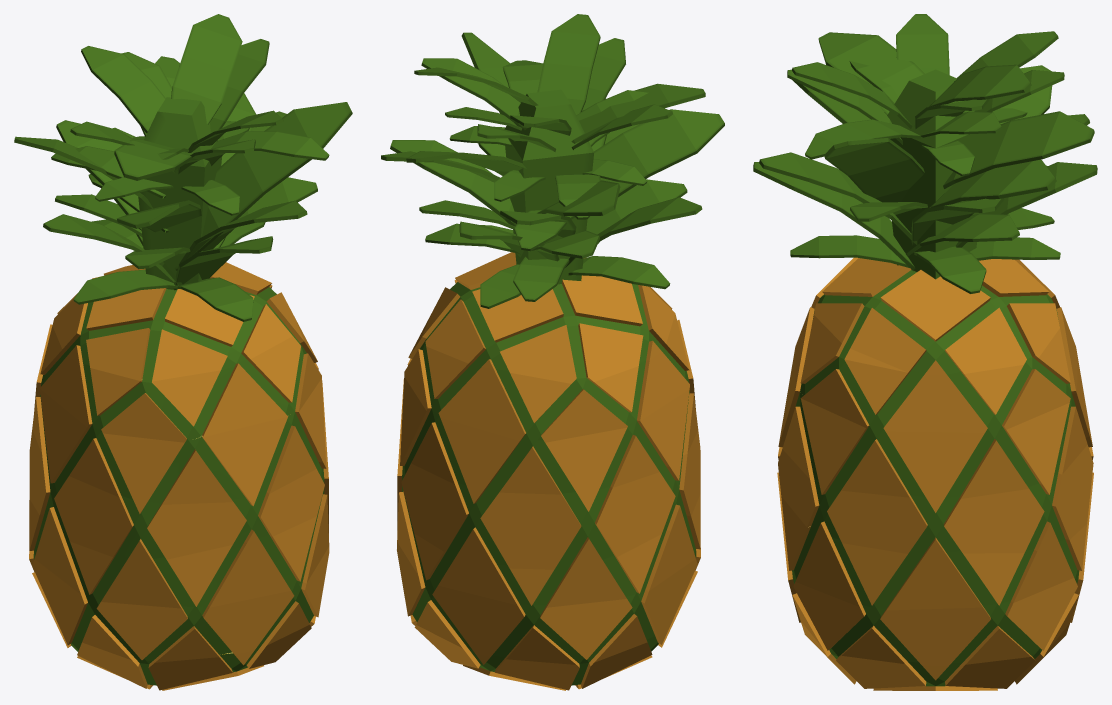
The model's file is pineapple.fbx.
The picture shows the model from 3 angles, left to right: view 1: azimuth 30°, elevation 25°; view 2: azimuth 150°, elevation 25°; view 3: azimuth 270°, elevation 25°; orthographic projection. The views are drawn at different scales.
Parts seen in each view (by area): view 1: pineapple7, pineapple5, pineapple6, pineapple4, pineapple3, pineapple2, pineapple1; view 2: pineapple7, pineapple4, pineapple5, pineapple6, pineapple2, pineapple3, pineapple1; view 3: pineapple7, pineapple5, pineapple6, pineapple4, pineapple3, pineapple2, pineapple1.
Part boxes in pixels (bbox=[...]): pineapple7: bbox=[14, 14, 352, 382]; pineapple5: bbox=[32, 378, 326, 504]; pineapple6: bbox=[36, 317, 321, 442]; pineapple4: bbox=[29, 429, 328, 560]; pineapple3: bbox=[29, 498, 329, 608]; pineapple2: bbox=[29, 546, 329, 662]; pineapple1: bbox=[56, 616, 315, 690]; pineapple7: bbox=[381, 14, 724, 383]; pineapple4: bbox=[397, 431, 700, 569]; pineapple5: bbox=[399, 377, 698, 494]; pineapple6: bbox=[404, 309, 693, 442]; pineapple2: bbox=[397, 542, 700, 664]; pineapple3: bbox=[397, 494, 700, 607]; pineapple1: bbox=[410, 615, 673, 690]; pineapple7: bbox=[753, 14, 1097, 375]; pineapple5: bbox=[780, 348, 1089, 499]; pineapple6: bbox=[795, 303, 1077, 432]; pineapple4: bbox=[777, 428, 1093, 554]; pineapple3: bbox=[779, 488, 1089, 610]; pineapple2: bbox=[787, 565, 1084, 665]; pineapple1: bbox=[797, 613, 1073, 690].
Size of the model in its own units: 222 by 463 by 228.
